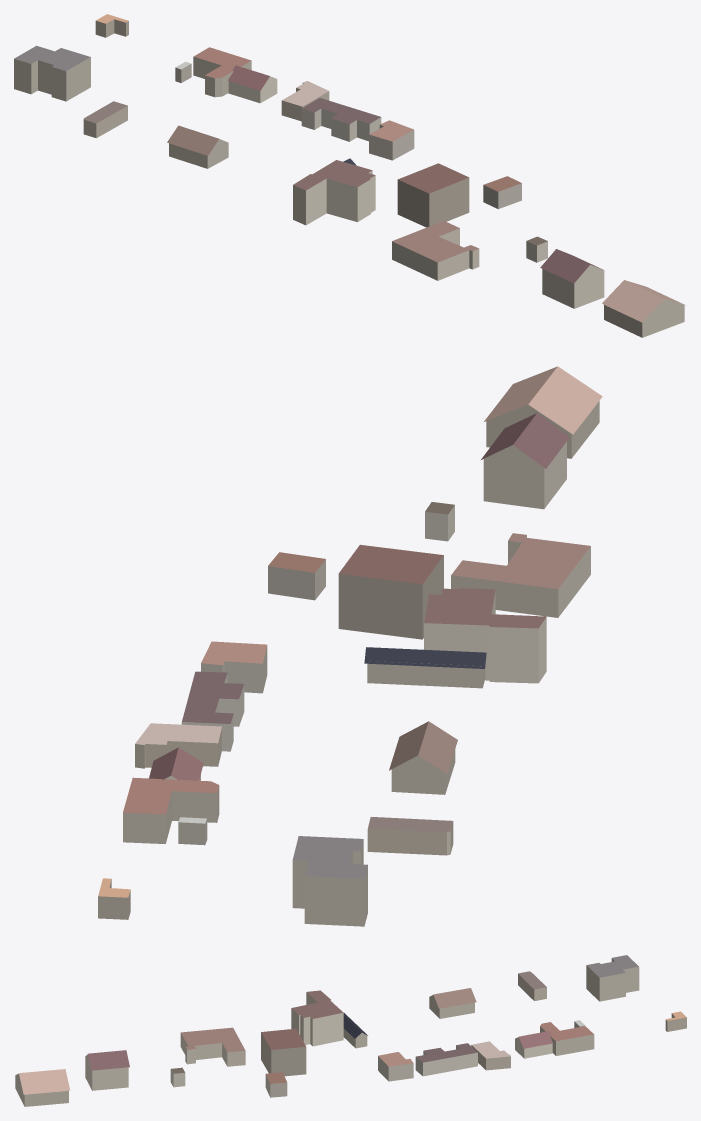
3 renders of one model, top to bottom at view 1: azimuth 30°, elevation 25°; view 2: azimuth 150°, elevation 25°; view 3: azimuth 270°, elevation 25°, orthographic. The views are drawn at different scales.
Parts seen in each view (by area): view 1: tuile; view 2: tuile; view 3: tuile.
Boxes of the visible parts, left/top/right/bottom form: tuile: left=14, top=14, right=685, bottom=337; tuile: left=98, top=366, right=602, bottom=926; tuile: left=15, top=955, right=686, bottom=1106.
Size of the model in its own units: 73.59 by 12.87 by 189.
